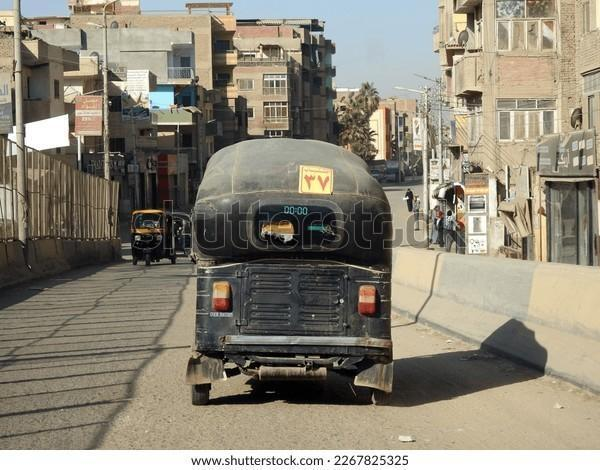keke: (184, 136, 398, 412), (130, 205, 168, 266)
